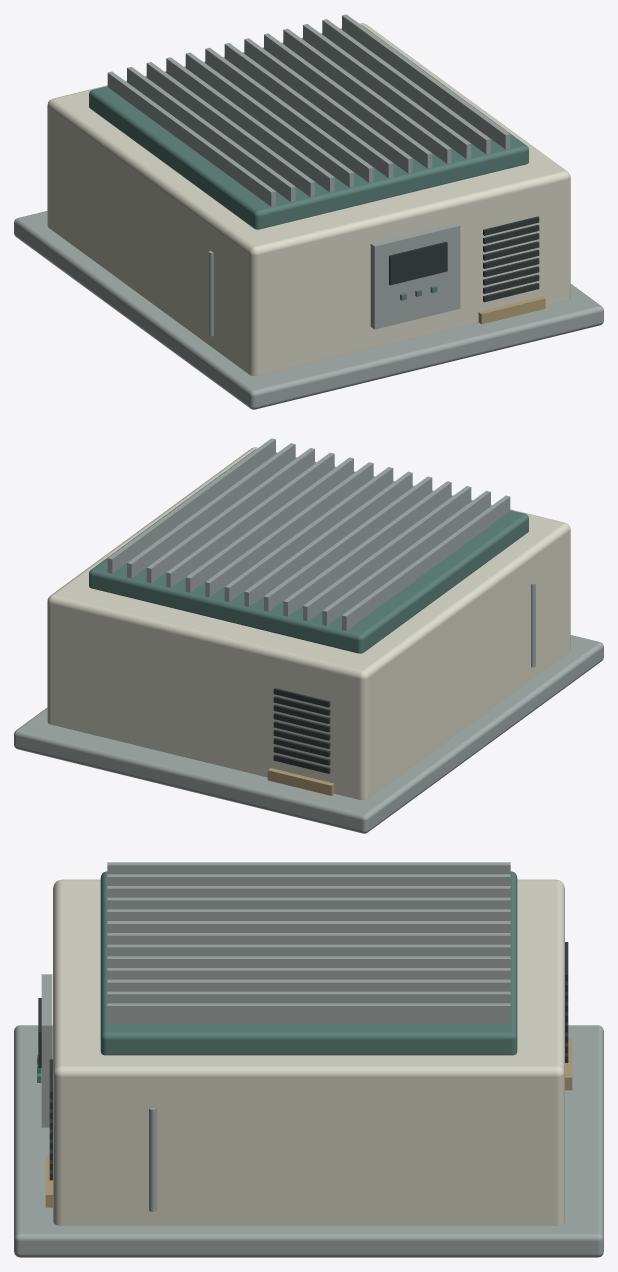
The model's file is power-unit.glb.
3 renders of one model, top to bottom at view 1: azimuth 30°, elevation 25°; view 2: azimuth 150°, elevation 25°; view 3: azimuth 270°, elevation 25°, orthographic. The views are drawn at different scales.
Parts seen in each view (by area): view 1: metal, ivory, teal, dark, ochre; view 2: ivory, metal, teal, dark, ochre; view 3: ivory, metal, teal, dark, ochre.
Boxes of the visible parts, x1,y1,x2,y2 form: metal: (14, 14, 603, 409); ivory: (47, 23, 570, 376); teal: (89, 25, 528, 300); dark: (389, 216, 539, 302); ochre: (478, 296, 545, 324); ivory: (47, 447, 570, 800); metal: (14, 438, 603, 833); teal: (89, 449, 528, 653); dark: (273, 688, 330, 773); ochre: (267, 768, 334, 795); ivory: (53, 879, 564, 1225); metal: (14, 862, 603, 1257); teal: (37, 871, 517, 1082); dark: (38, 942, 568, 1180); ochre: (45, 1039, 572, 1207).
Size of the model in its own units: 5.8 by 2.79 by 6.8.
